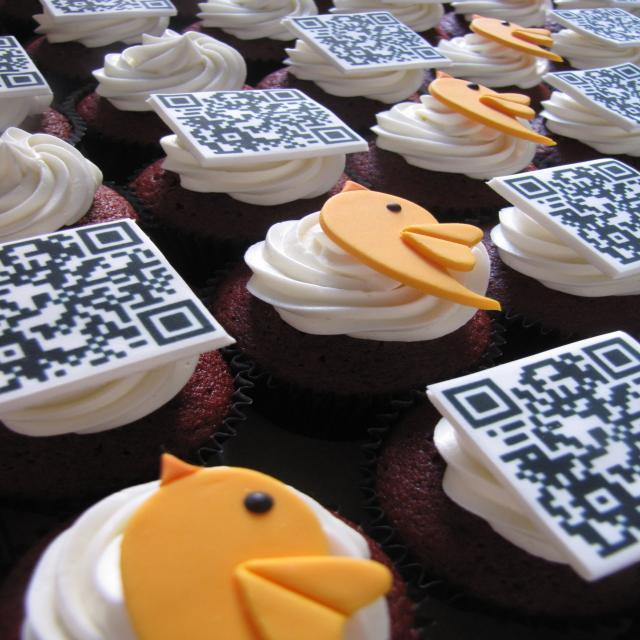qr-code: (440, 337, 640, 562), (0, 221, 217, 396), (502, 160, 640, 266), (155, 89, 361, 155), (292, 12, 446, 66), (552, 64, 640, 124), (553, 9, 640, 42), (0, 36, 45, 90), (50, 0, 174, 14)
